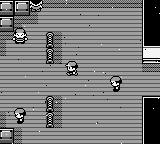main: (65, 62, 78, 76)
no-caminable: (0, 0, 30, 31), (144, 97, 159, 143), (144, 0, 159, 46), (143, 47, 159, 63), (0, 129, 13, 143)
npc: (12, 29, 28, 44), (13, 107, 26, 124), (109, 76, 122, 92), (30, 0, 43, 11)
